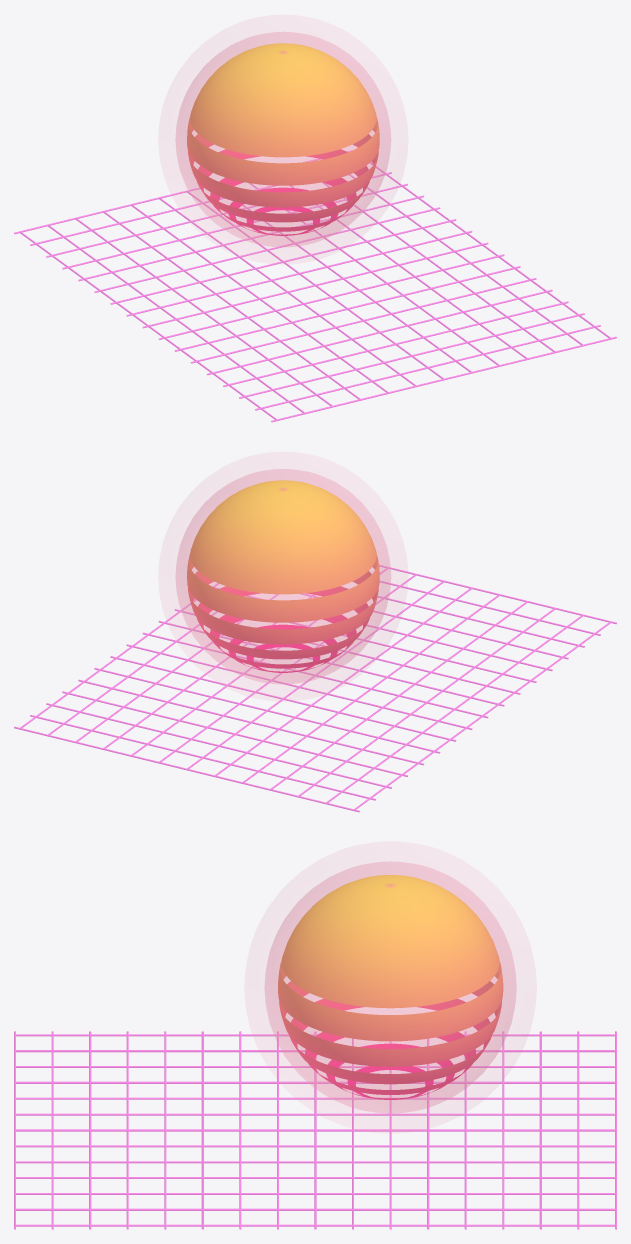
The model's file is fx3d-retro-sun.glb.
The picture shows the model from 3 angles, top to bottom: view 1: azimuth 30°, elevation 25°; view 2: azimuth 150°, elevation 25°; view 3: azimuth 270°, elevation 25°; orthographic projection. The views are drawn at different scales.
Visible parts, largest first — view 1: Sphere, band0, Sphere.001, band1, band2, band3, band4, gz16, gz11, gz10, gz12, gz6 (+23 smaller); view 2: Sphere, band0, Sphere.001, band1, band2, band3, band4, gz0, gz3, gz4, gz5, gz6 (+21 smaller); view 3: Sphere, band0, Sphere.001, band1, band2, band3, gx5, gx-1, gx0, gx6, gx1, gx2 (+19 smaller).
Boxes of the visible parts, x1,y1,x2,y2 form: Sphere: (175,32,390,247); band0: (190,43,376,157); Sphere.001: (158,15,407,264); band1: (187,117,379,185); band2: (188,134,378,207); band3: (197,149,369,222); band4: (210,177,356,231); gz16: (271,336,616,422); gz11: (190,278,536,363); gz10: (174,266,520,351); gz12: (206,289,552,375); gz6: (110,219,456,304); Sphere: (175,469,390,684); band0: (190,480,376,594); Sphere.001: (158,452,407,701); band1: (187,554,379,622); band2: (188,571,378,644); band3: (197,586,369,659); band4: (210,614,356,668); gz0: (14,726,359,812); gz3: (62,691,407,776); gz4: (78,679,424,765); gz5: (94,668,440,753); gz6: (110,656,456,741); Sphere: (264,861,516,1113); band0: (281,875,499,1008); Sphere.001: (245,842,536,1133); band1: (278,961,503,1041); band2: (279,981,501,1066); band3: (289,998,491,1084); gx5: (15,1208,615,1210); gx-1: (15,1113,615,1115); gx0: (15,1129,615,1131); gx6: (15,1224,615,1226); gx1: (15,1145,615,1147); gx2: (15,1161,615,1163).
Size of the model in its own units: 1.24 by 0.8127 by 1.61.
4 materials, 1 textured.
